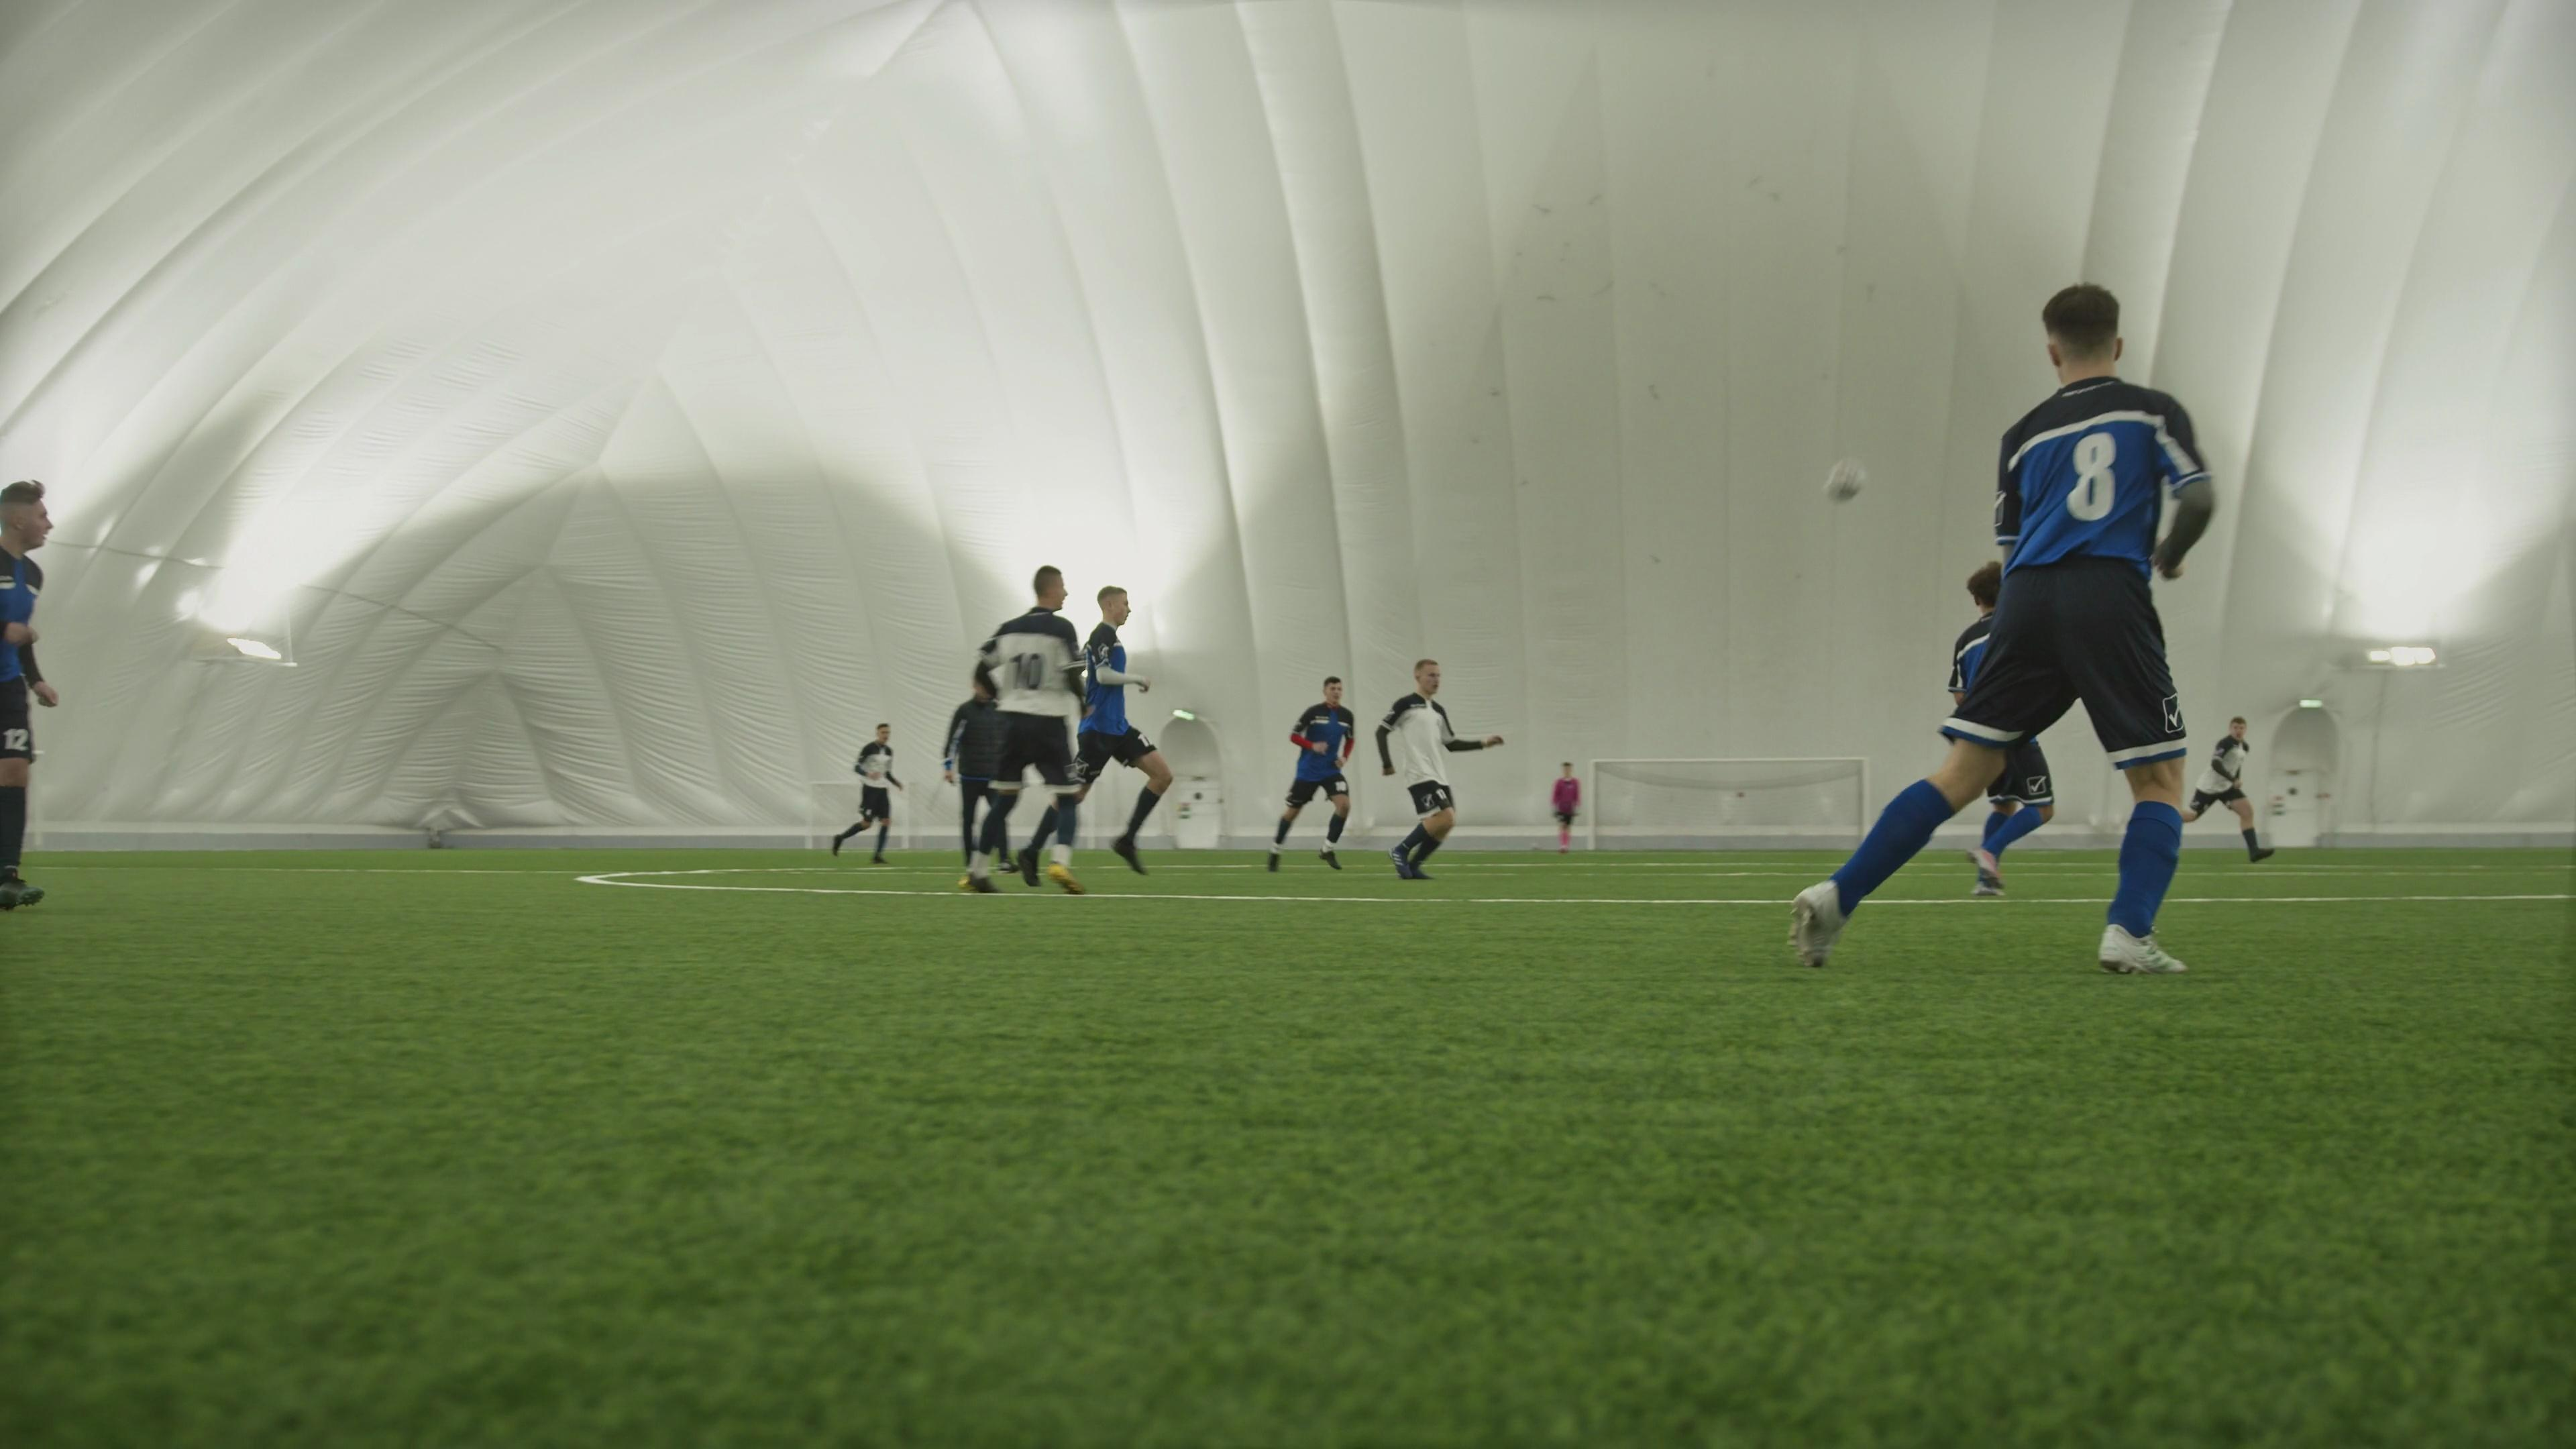other: (943, 671, 1012, 893)
team1: (1783, 283, 2217, 980), (1953, 563, 2047, 975), (1069, 579, 1171, 879), (0, 478, 58, 911), (1265, 676, 1355, 872)
team1gk: (1548, 761, 1585, 851)
team2: (973, 566, 1086, 892), (1375, 660, 1511, 881), (830, 724, 902, 865), (2206, 717, 2266, 860)
